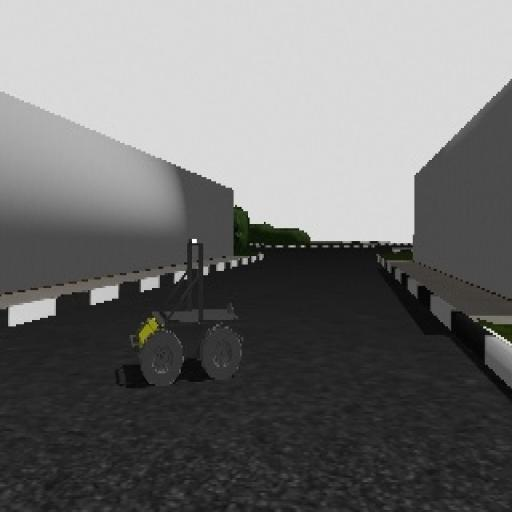huskya200: (126, 235, 256, 394)
